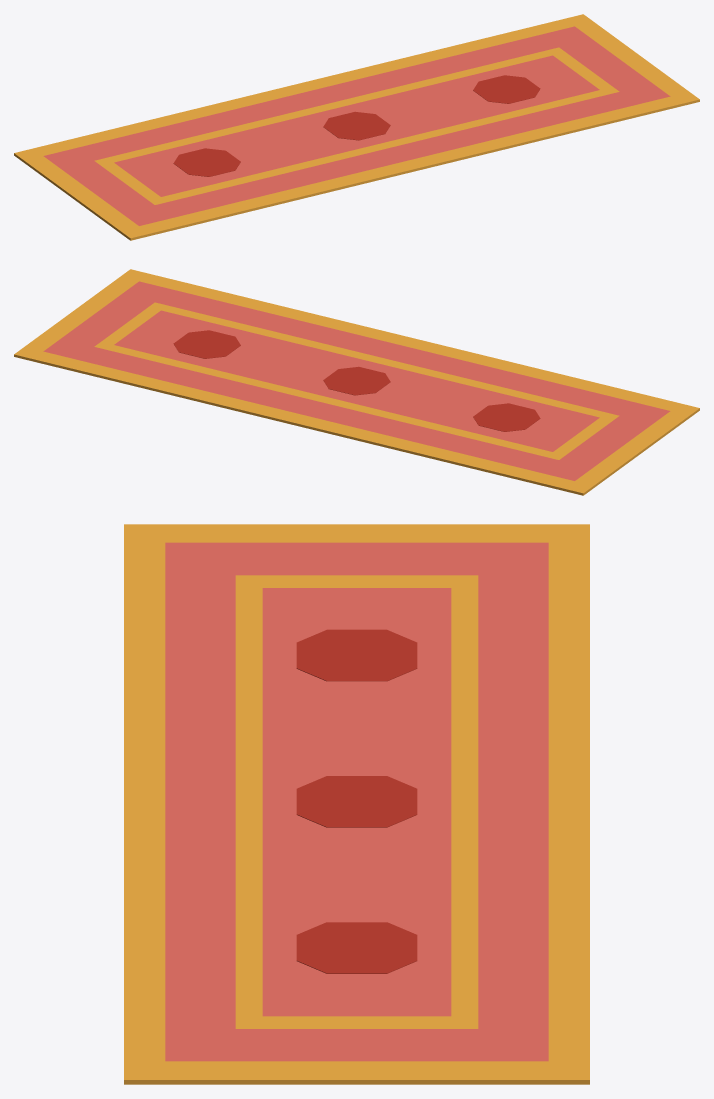
File: Carpet LV3.fbx
3 renders of one model, top to bottom at view 1: azimuth 30°, elevation 25°; view 2: azimuth 150°, elevation 25°; view 3: azimuth 270°, elevation 25°, orthographic. The views are drawn at different scales.
Visible parts, largest first — view 1: Deco_Carpet_LV3; view 2: Deco_Carpet_LV3; view 3: Deco_Carpet_LV3.
Boxes of the visible parts, x1,y1,x2,y2 form: Deco_Carpet_LV3: (14, 14, 699, 240); Deco_Carpet_LV3: (14, 269, 699, 495); Deco_Carpet_LV3: (124, 524, 589, 1084).
Bounding box in the file's own units: 917 × 4.1 × 325.
